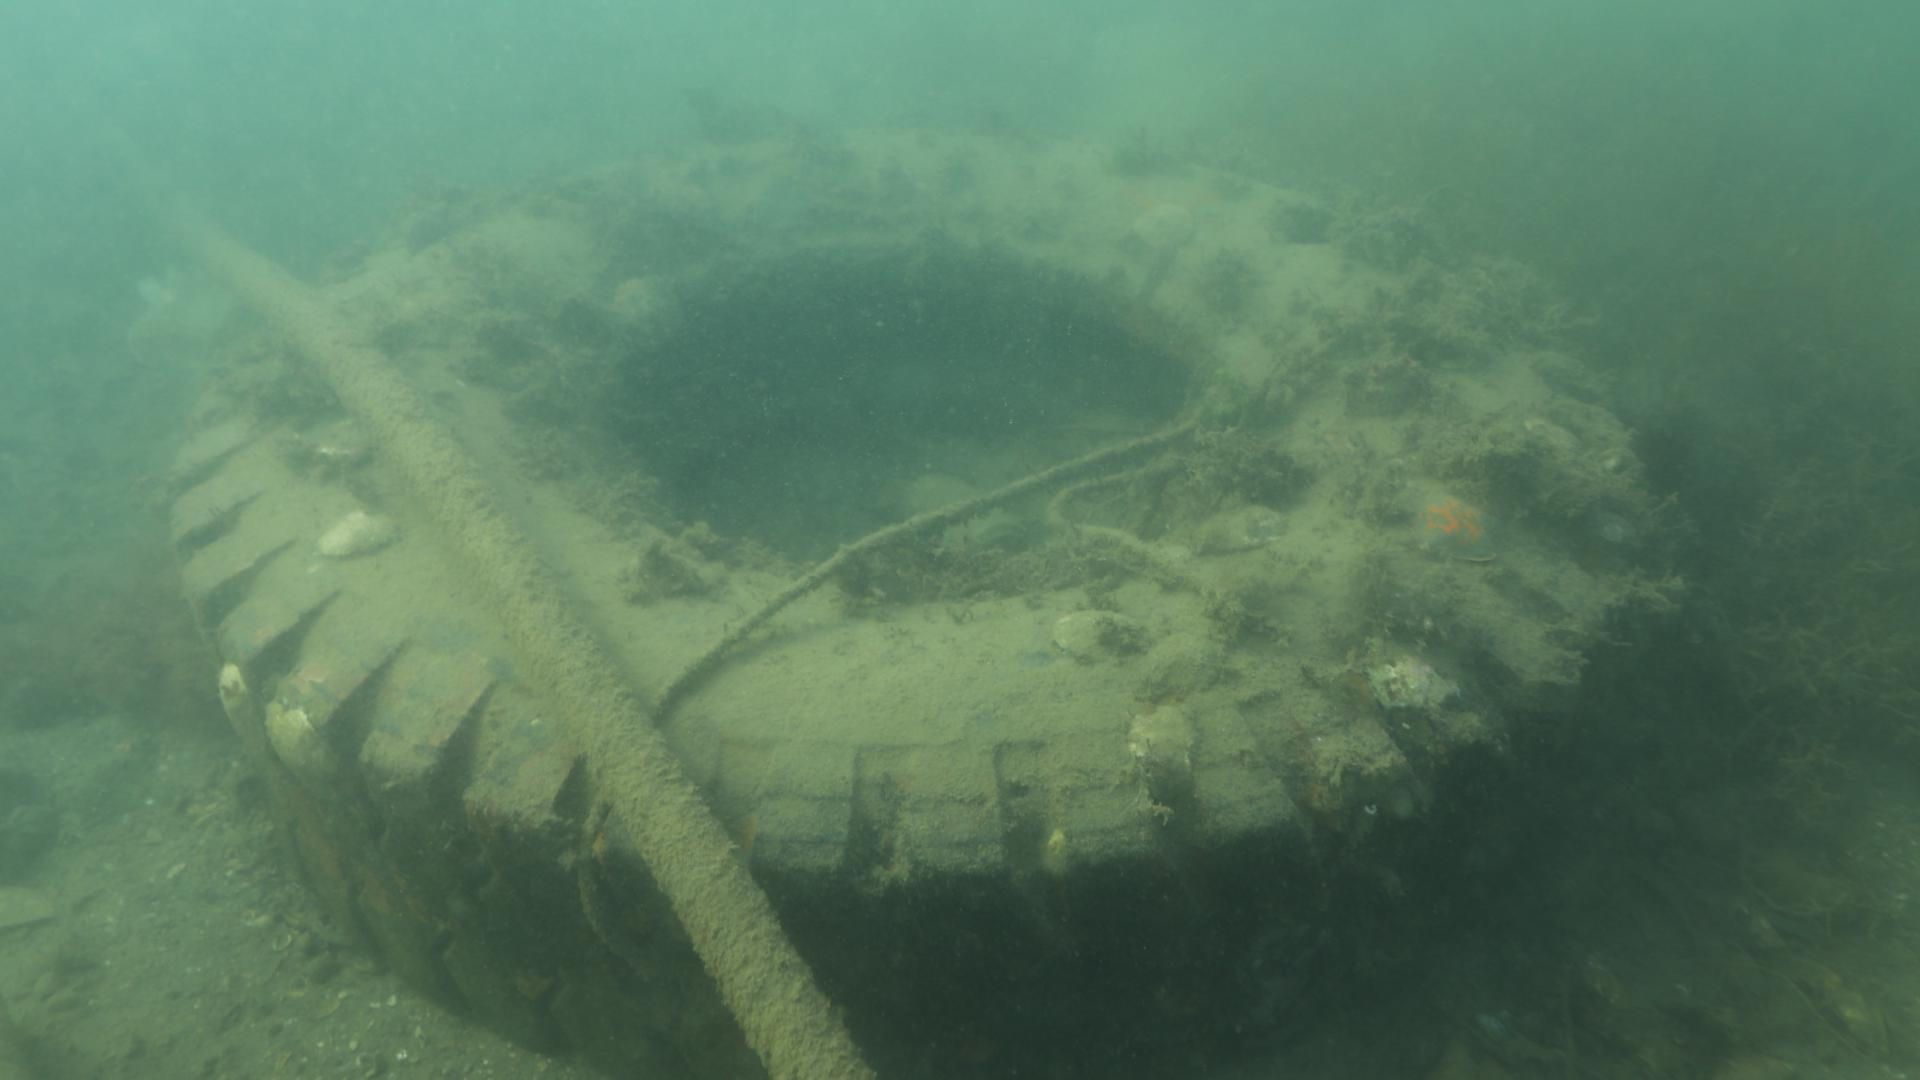rope: (94, 108, 882, 1080), (574, 415, 1199, 982), (1044, 462, 1217, 595)
tire: (165, 124, 1648, 1080)
